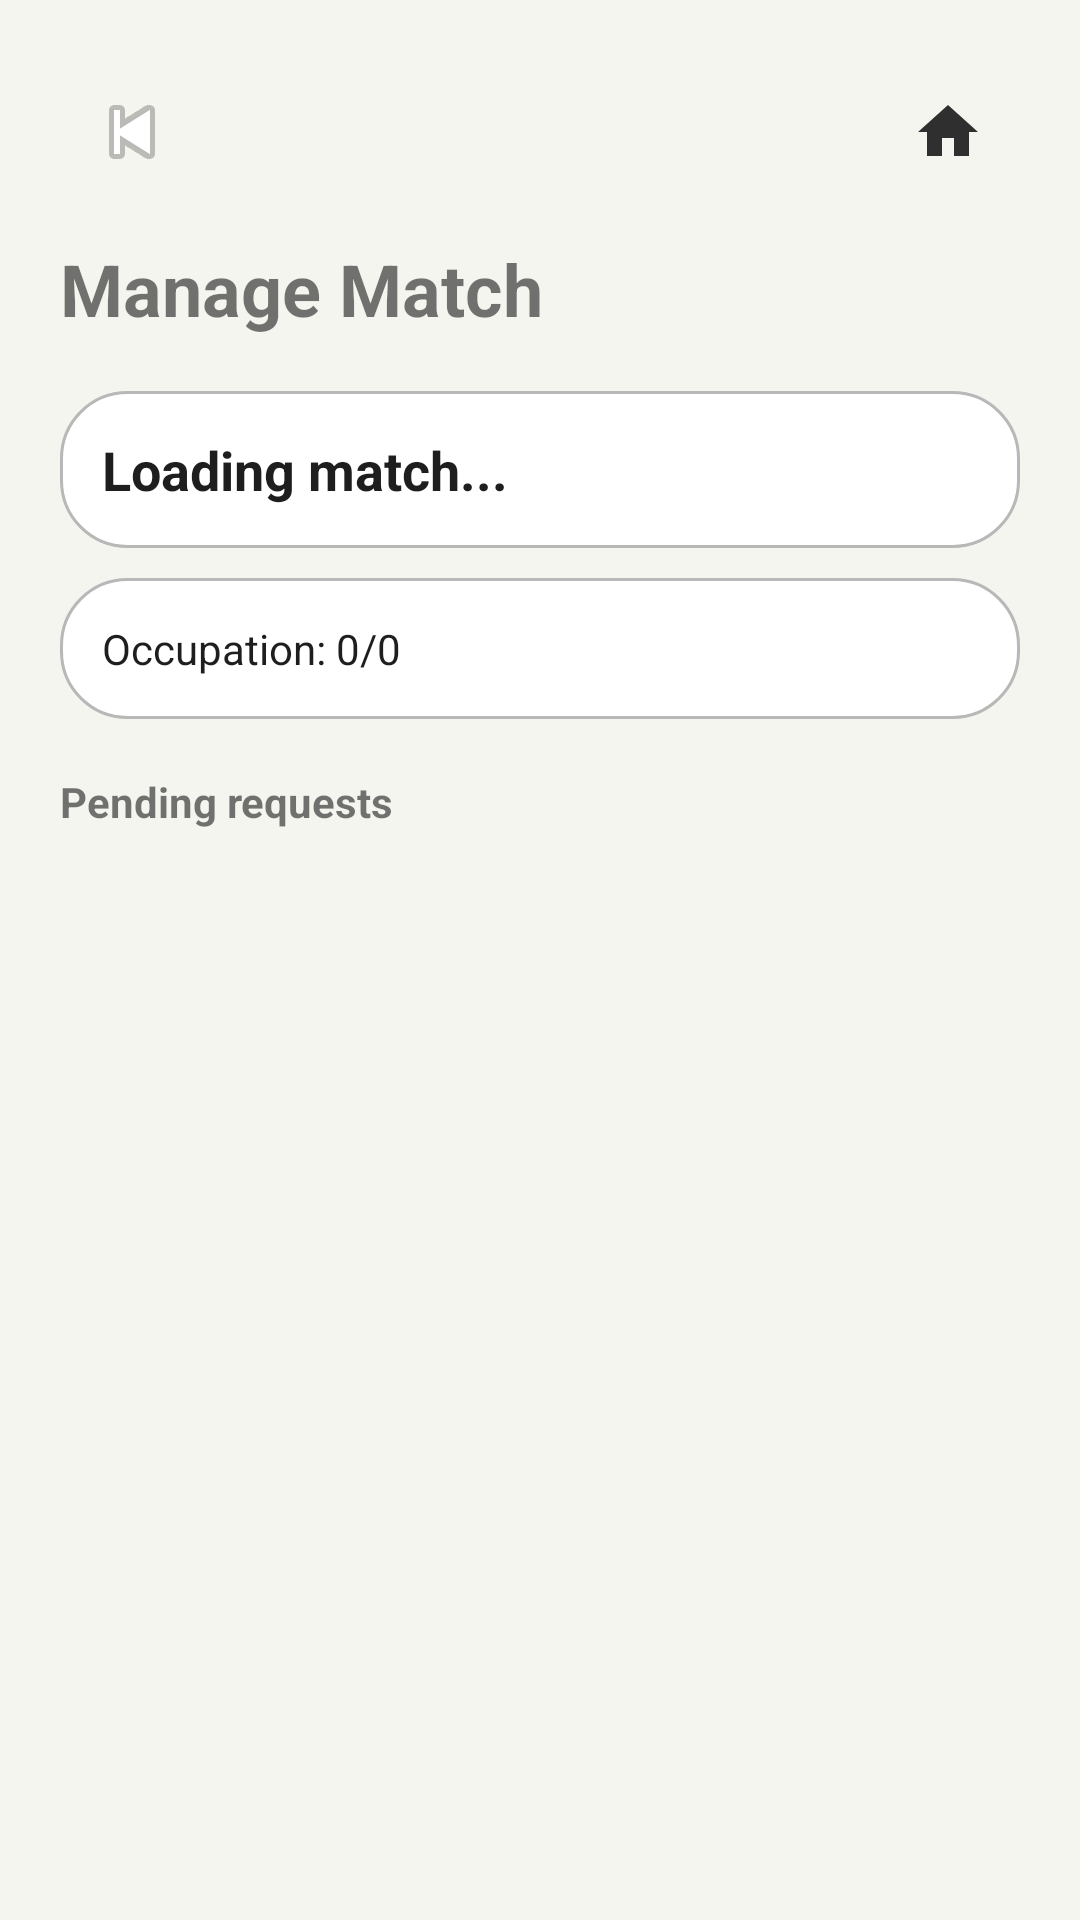

Screen size 1080px×1920px. Icon name, then its center in pixels as (x,y):
Back: (132,132)
Home: (948,130)
